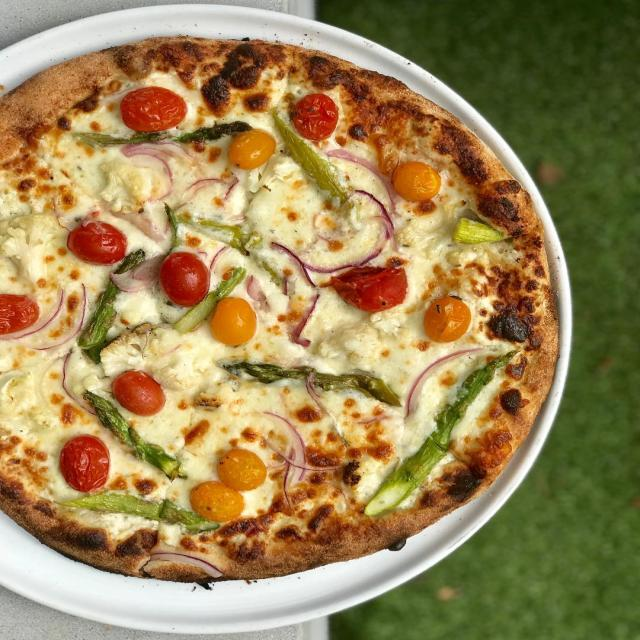pizza: (0, 36, 558, 581)
tomatoes: (320, 267, 412, 312), (55, 431, 113, 495), (104, 361, 169, 418), (153, 248, 212, 306), (116, 87, 190, 133), (284, 87, 338, 146), (212, 441, 271, 494), (208, 294, 260, 352), (68, 218, 130, 266), (211, 129, 279, 171), (190, 478, 253, 523), (383, 161, 445, 203), (424, 294, 476, 344), (0, 288, 42, 342)
